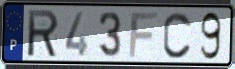3: (97, 11, 124, 59)
4: (63, 10, 90, 58)
9: (199, 10, 223, 61)
C: (161, 10, 193, 61)
F: (127, 11, 160, 60)
R: (27, 8, 61, 59)
